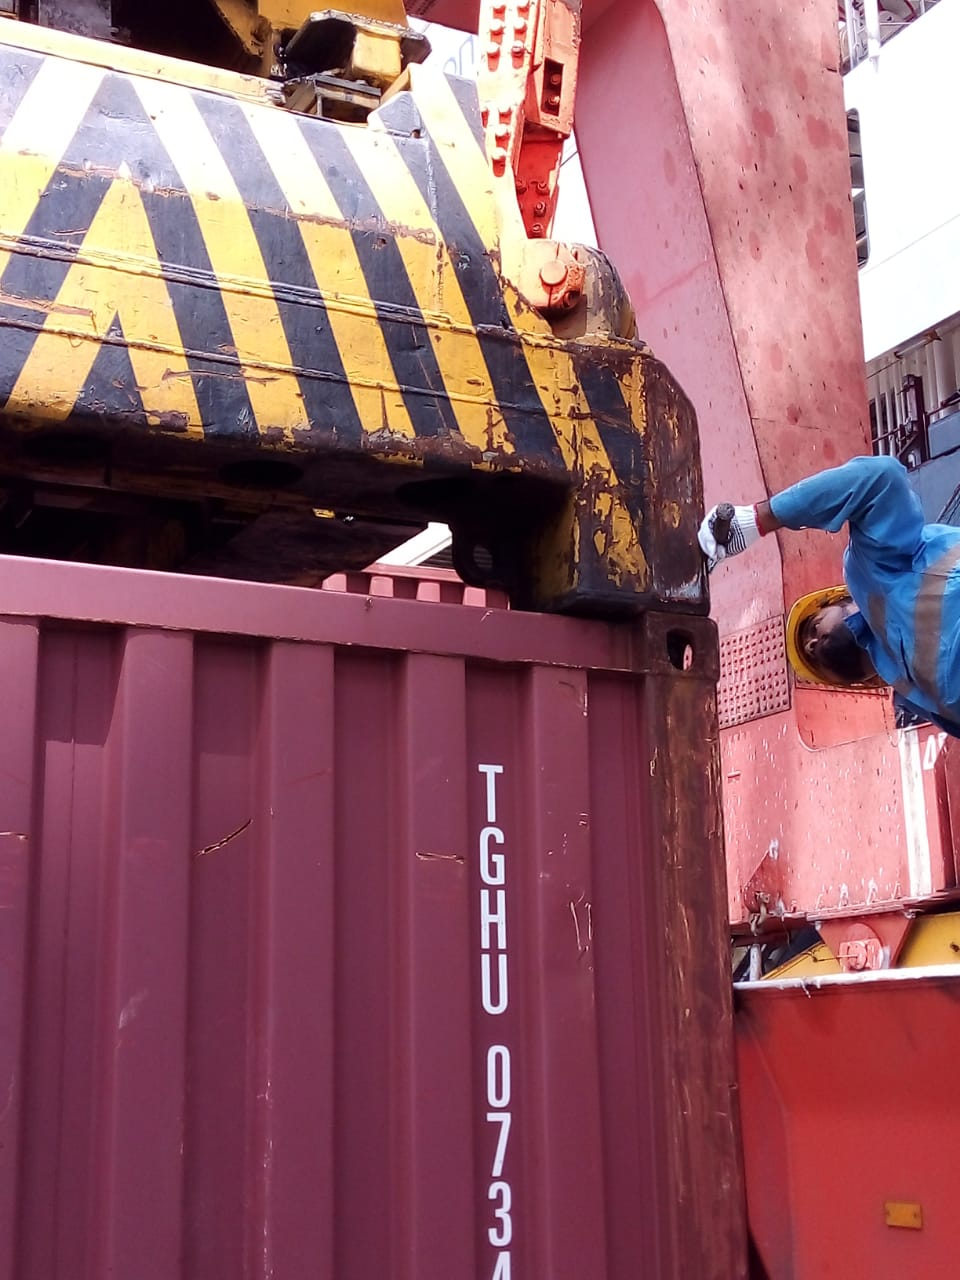moderate: (598, 667, 748, 1203)
